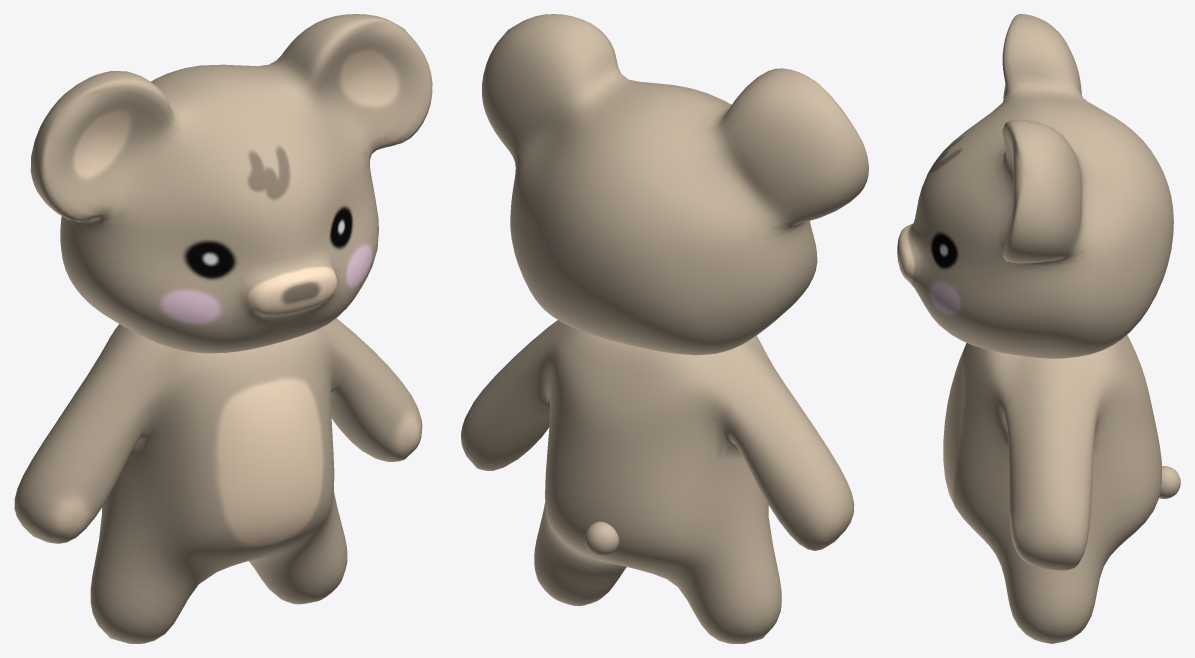
Rendered from bearcub2.fbx.
3 renders of one model, left to right at view 1: azimuth 30°, elevation 25°; view 2: azimuth 150°, elevation 25°; view 3: azimuth 270°, elevation 25°, orthographic. The views are drawn at different scales.
Parts seen in each view (by area): view 1: head 2.006, Roundcube.011; view 2: head 2.006, Roundcube.011, Roundcube.012; view 3: head 2.006, Roundcube.011, Roundcube.012.
Boxes of the visible parts, bbox=[...] form: head 2.006: bbox=[30, 14, 432, 353]; Roundcube.011: bbox=[14, 318, 422, 643]; head 2.006: bbox=[482, 14, 868, 355]; Roundcube.011: bbox=[461, 320, 854, 643]; Roundcube.012: bbox=[584, 521, 619, 556]; head 2.006: bbox=[897, 14, 1173, 358]; Roundcube.011: bbox=[943, 335, 1161, 643]; Roundcube.012: bbox=[1159, 466, 1180, 498].
Size of the model in its own units: 87.98 by 125 by 60.55.
Materials: 1 (1 with a texture image).
